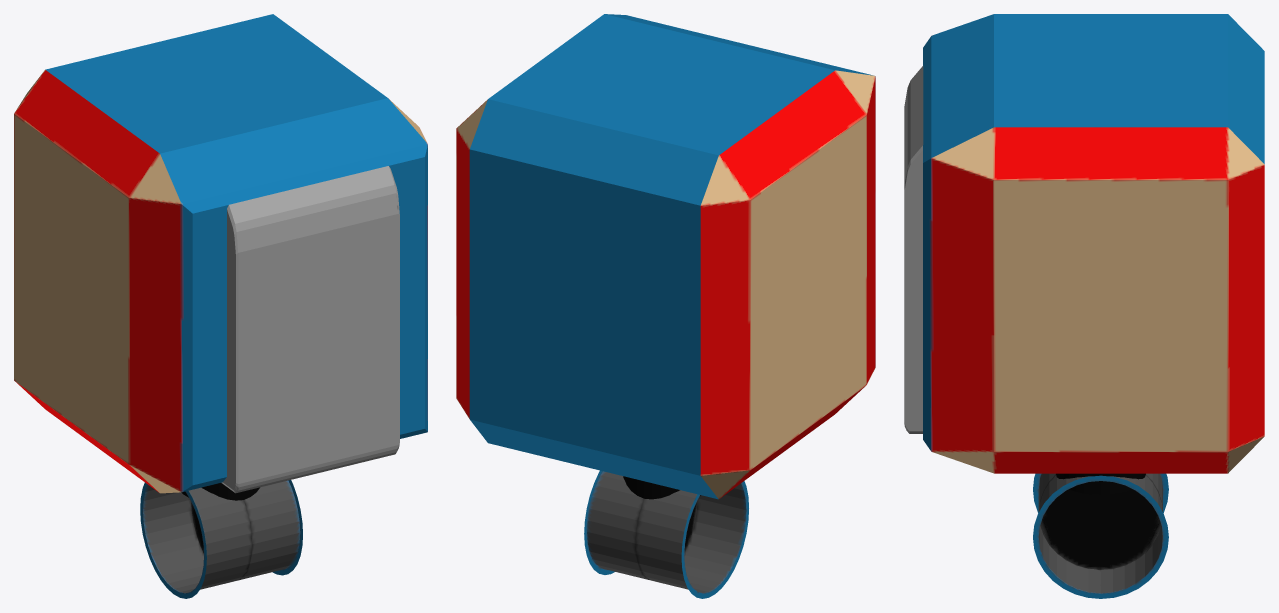
The model's file is Robot_T.obj.
3 views of the same model, side by side, from view 1: azimuth 30°, elevation 25°; view 2: azimuth 150°, elevation 25°; view 3: azimuth 270°, elevation 25° (orthographic).
Visible parts, largest first — view 1: Robot.T; view 2: Robot.T; view 3: Robot.T.
Boxes of the visible parts, box(x1,y1,x2,y2) form: Robot.T: box(14, 14, 427, 598); Robot.T: box(456, 14, 875, 598); Robot.T: box(904, 14, 1264, 598).
Bounding box in the file's own units: 1.08 × 1.75 × 1.14.
Materials: 1 (1 with a texture image).
